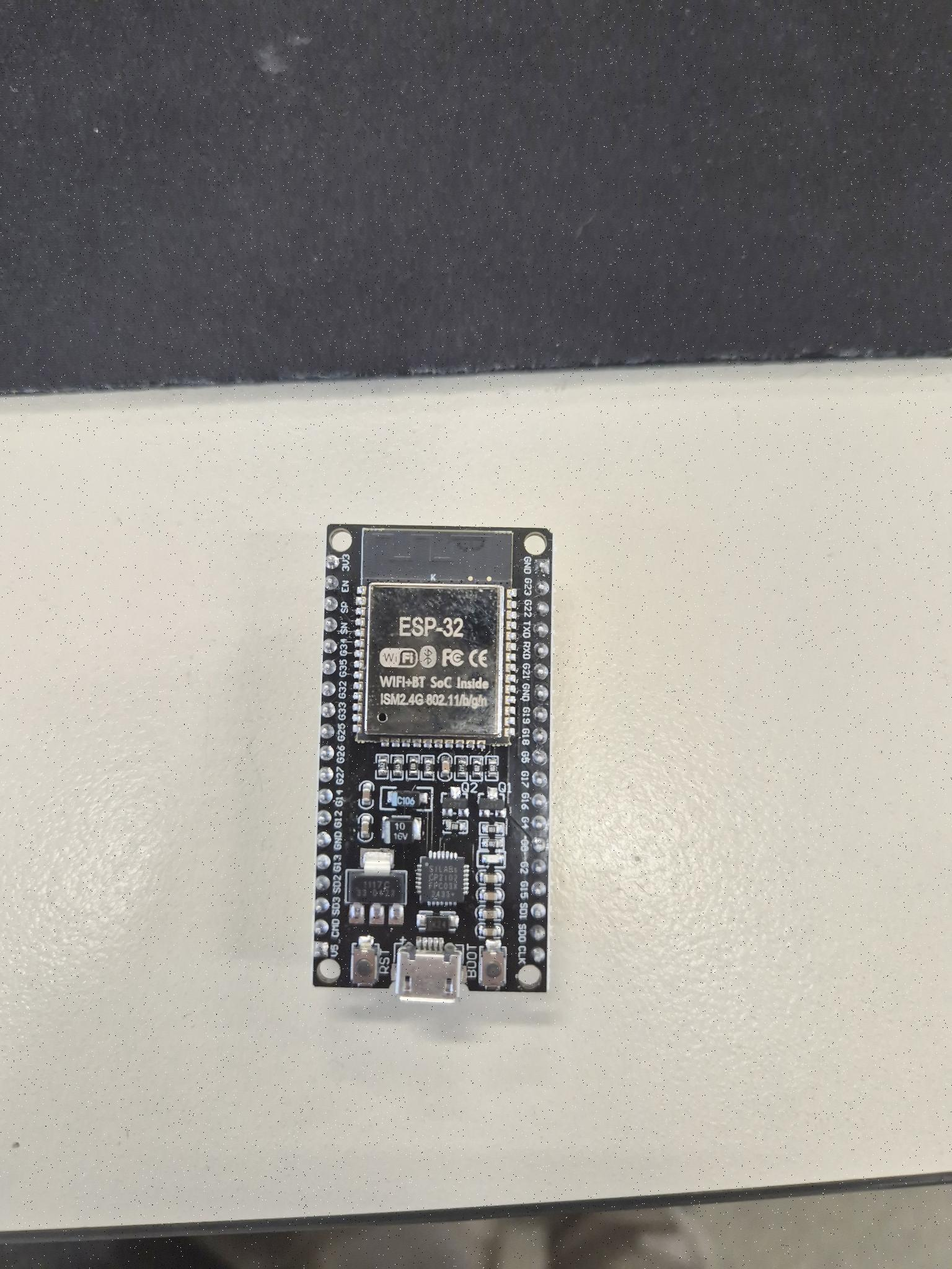esp32-dev: (313, 525, 552, 1002)
